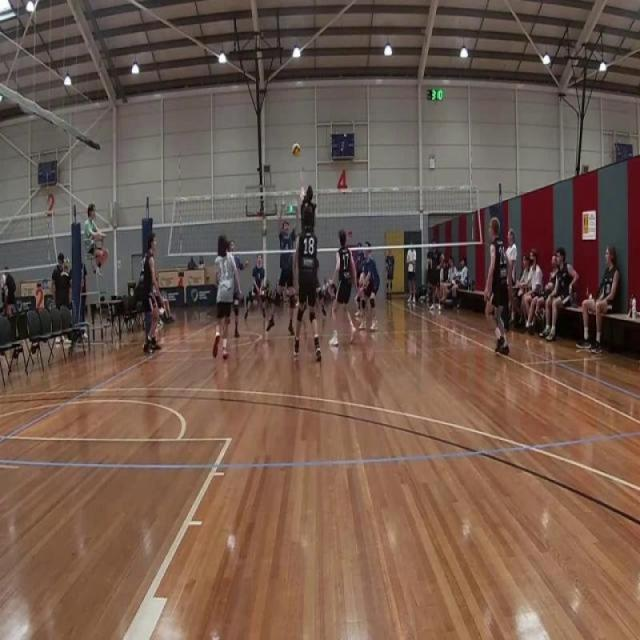volleyball: (292, 142, 301, 158)
